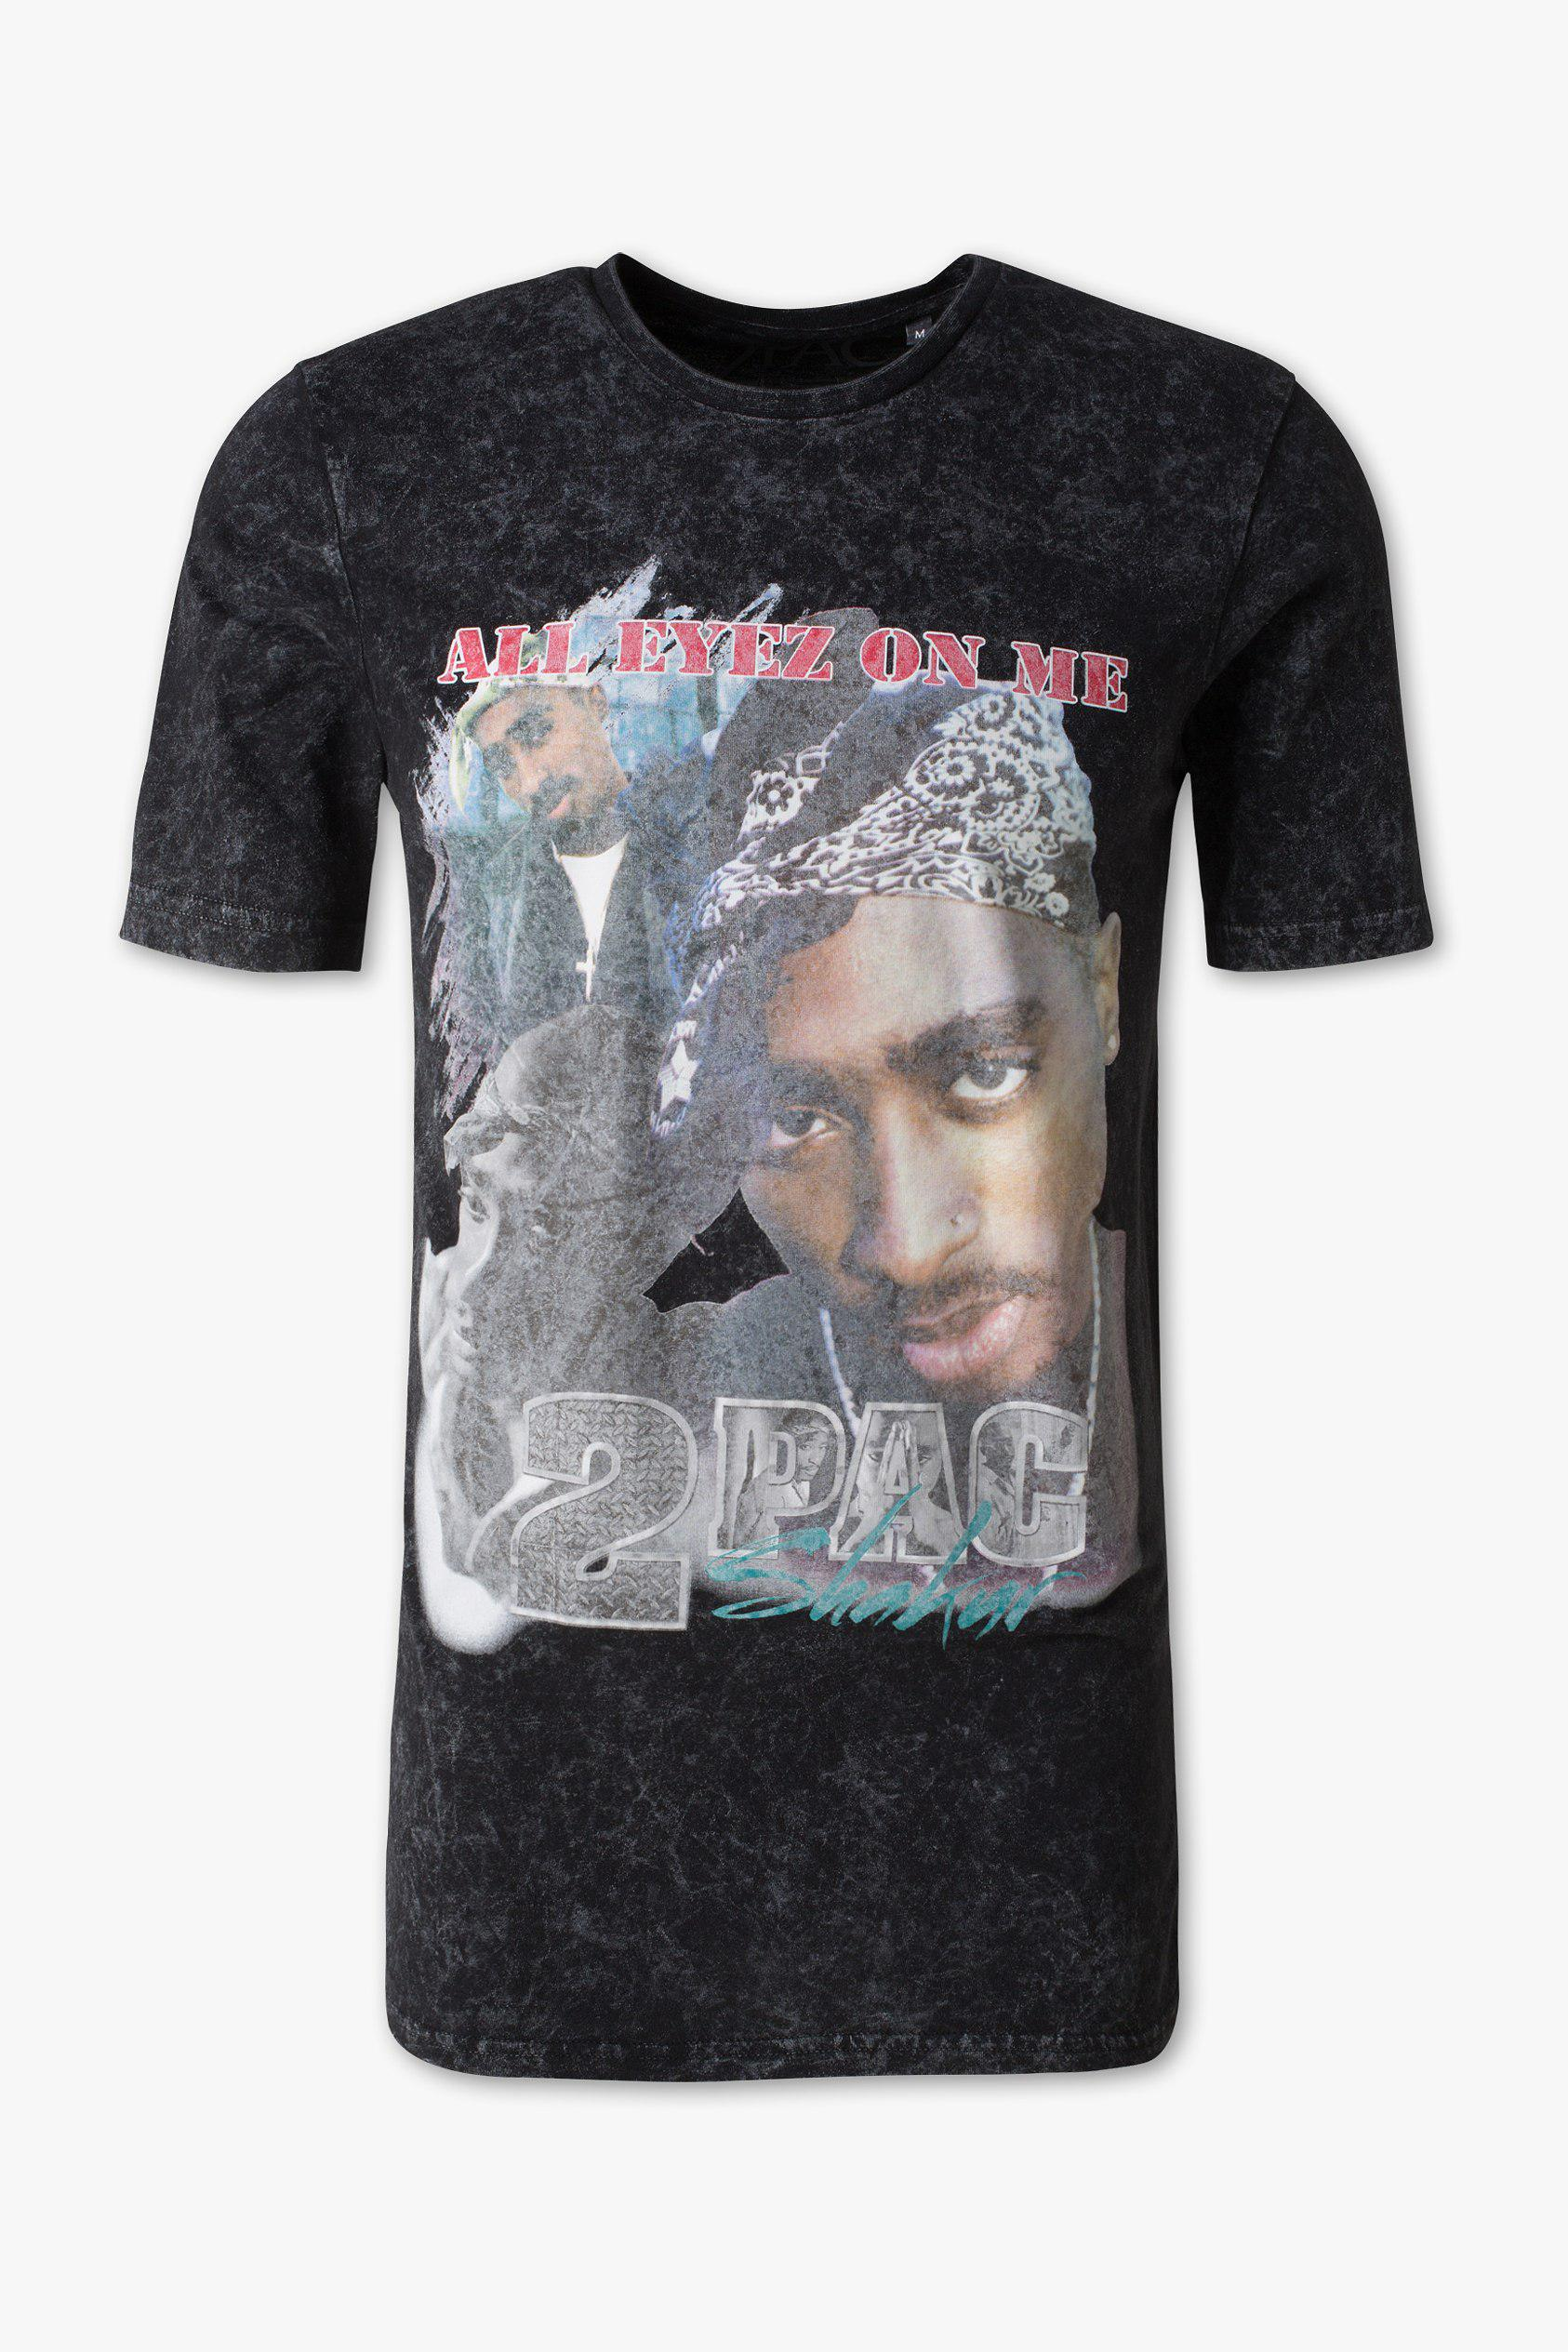teeshirt: (7, 7, 1561, 2345)
